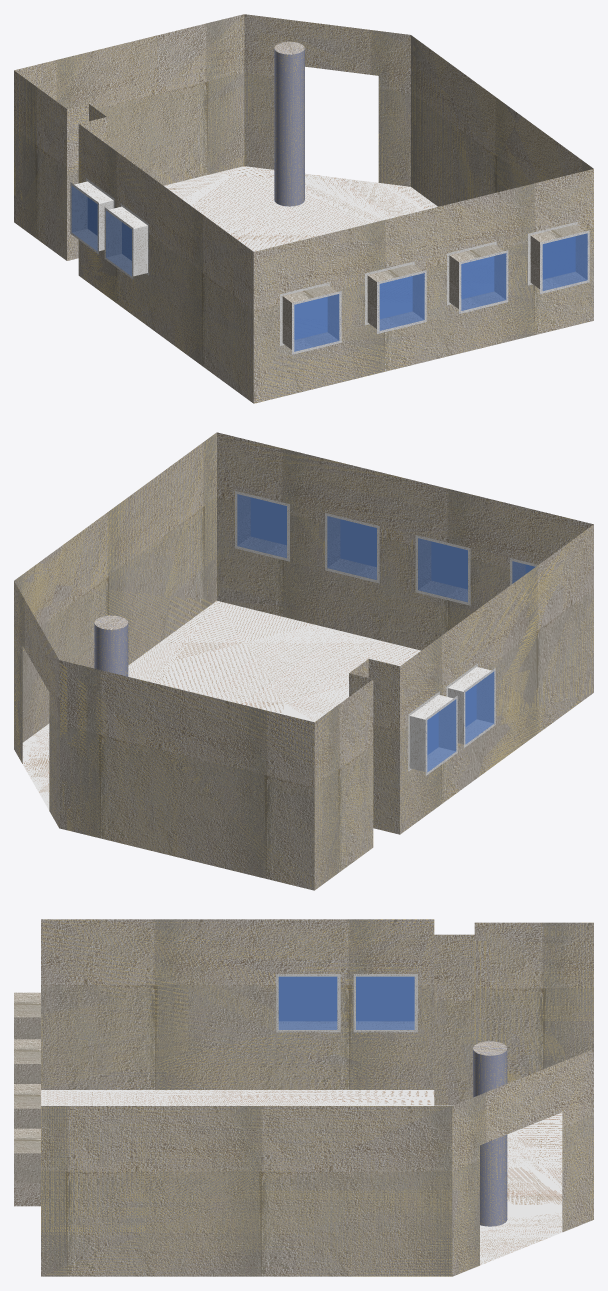
Rendered from COM026.obj.
3 renders of one model, top to bottom at view 1: azimuth 30°, elevation 25°; view 2: azimuth 150°, elevation 25°; view 3: azimuth 270°, elevation 25°, orthographic. The views are drawn at different scales.
Visible parts, largest first — view 1: Mesh28 COM026 Model, Mesh5 Group2 COM026 Model, Mesh12 Group4 COM026 Model, Mesh20 Group6 COM026 Model, Mesh24 Group7 COM026 Model, Mesh16 Group5 COM026 Model, Mesh1 Group1 COM026 Model, Mesh8 Group3 COM026 Model; view 2: Mesh28 COM026 Model, Mesh8 Group3 COM026 Model, Mesh24 Group7 COM026 Model, Mesh12 Group4 COM026 Model, Mesh20 Group6 COM026 Model, Mesh1 Group1 COM026 Model, Mesh5 Group2 COM026 Model; view 3: Mesh28 COM026 Model, Mesh5 Group2 COM026 Model, Mesh1 Group1 COM026 Model, Mesh8 Group3 COM026 Model, Mesh12 Group4 COM026 Model, Mesh16 Group5 COM026 Model, Mesh20 Group6 COM026 Model, Mesh24 Group7 COM026 Model.
Part boxes in pixels (bbox=[...]): Mesh28 COM026 Model: bbox=[14, 14, 593, 403]; Mesh5 Group2 COM026 Model: bbox=[274, 41, 304, 206]; Mesh12 Group4 COM026 Model: bbox=[528, 221, 589, 294]; Mesh20 Group6 COM026 Model: bbox=[447, 241, 508, 313]; Mesh24 Group7 COM026 Model: bbox=[365, 261, 426, 333]; Mesh16 Group5 COM026 Model: bbox=[280, 282, 341, 354]; Mesh1 Group1 COM026 Model: bbox=[104, 203, 148, 279]; Mesh8 Group3 COM026 Model: bbox=[70, 178, 114, 254]; Mesh28 COM026 Model: bbox=[14, 432, 593, 890]; Mesh8 Group3 COM026 Model: bbox=[408, 691, 457, 775]; Mesh24 Group7 COM026 Model: bbox=[415, 535, 470, 605]; Mesh12 Group4 COM026 Model: bbox=[235, 491, 289, 561]; Mesh20 Group6 COM026 Model: bbox=[325, 513, 379, 583]; Mesh1 Group1 COM026 Model: bbox=[446, 663, 495, 747]; Mesh5 Group2 COM026 Model: bbox=[94, 615, 128, 676]; Mesh28 COM026 Model: bbox=[41, 919, 593, 1276]; Mesh5 Group2 COM026 Model: bbox=[473, 1041, 507, 1226]; Mesh1 Group1 COM026 Model: bbox=[276, 974, 340, 1032]; Mesh8 Group3 COM026 Model: bbox=[353, 974, 417, 1032]; Mesh12 Group4 COM026 Model: bbox=[14, 1128, 40, 1206]; Mesh16 Group5 COM026 Model: bbox=[14, 992, 40, 1039]; Mesh20 Group6 COM026 Model: bbox=[14, 1084, 40, 1128]; Mesh24 Group7 COM026 Model: bbox=[14, 1039, 40, 1083].
Size of the model in its own units: 7.3 by 2.98 by 9.15.
Materials: 6 (2 with a texture image).
